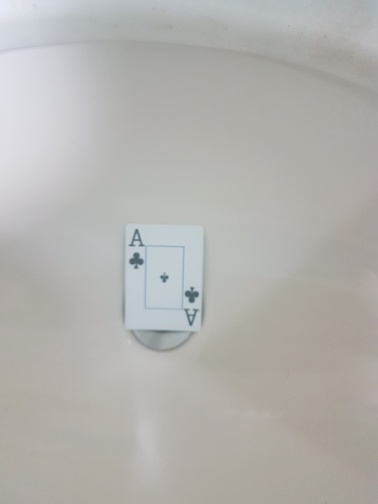ace: (123, 224, 203, 332)
